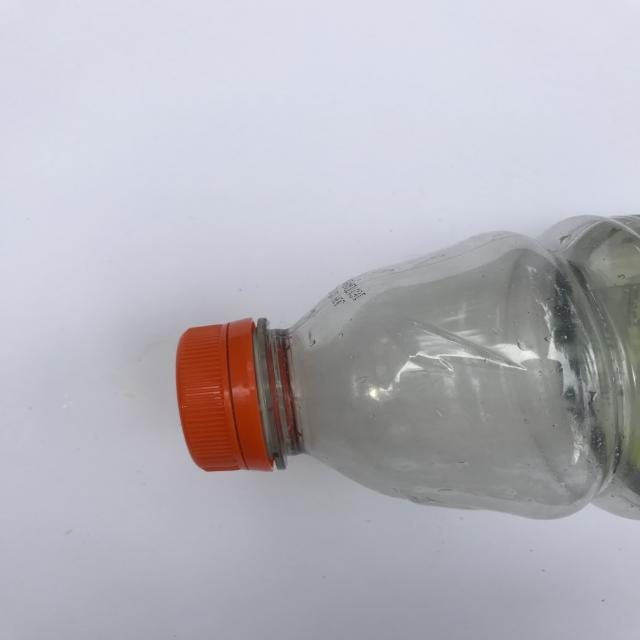plastic: (162, 208, 640, 533)
